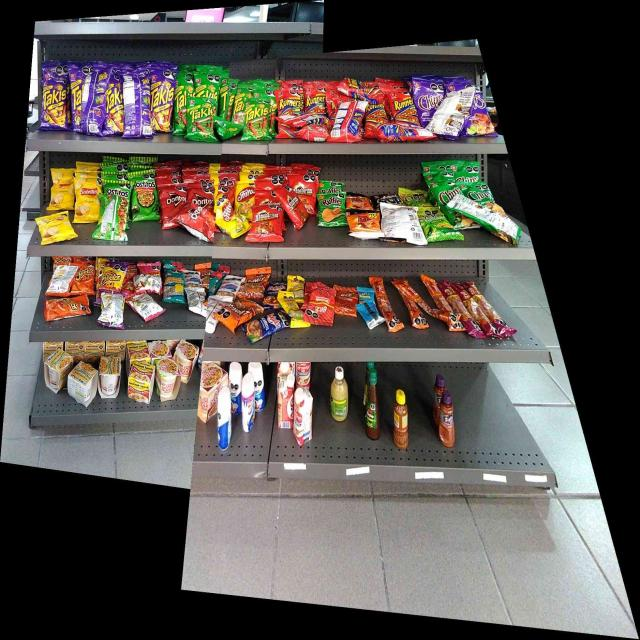bitzEnchilado90: (308, 288, 334, 327), (336, 286, 357, 315)
bitzEnchilado95: (428, 279, 453, 332), (401, 280, 422, 328), (380, 278, 396, 332)
bitzHabanero: (455, 282, 505, 338)
bokadosCacahuates: (257, 312, 284, 332), (267, 283, 282, 309)
botaneraChilito: (393, 389, 408, 450)
cheetosFlaminHot: (102, 262, 126, 288)
cheetosOriginal: (47, 298, 88, 317), (76, 262, 94, 294)
chipsFuego: (416, 79, 441, 119)
chipsPapatinas: (420, 206, 456, 240)
delPrimoSalsa: (329, 366, 349, 423)
doritosNacho: (182, 205, 214, 237), (159, 184, 181, 226)
fritosLimon: (217, 200, 235, 236), (237, 181, 250, 223)
hotNutsOriginal: (349, 210, 380, 238)
leoCacahuates: (222, 275, 237, 301), (186, 270, 202, 286)
leoMix: (224, 303, 253, 325), (243, 270, 266, 296)
maruchanPollo: (70, 364, 96, 404), (99, 356, 121, 400), (46, 352, 68, 389)
maruchanRes: (130, 363, 154, 402)
nestleCarnation: (293, 388, 313, 446), (278, 375, 292, 429)
nestleLechera: (216, 390, 232, 452), (242, 374, 256, 432)
nissinCamaron: (156, 359, 180, 403)
productoAtras: (474, 203, 520, 242), (125, 76, 151, 138), (382, 202, 417, 242), (84, 71, 105, 136), (442, 92, 470, 139), (100, 194, 127, 242), (334, 102, 362, 141), (100, 289, 124, 328), (386, 123, 430, 141), (130, 294, 157, 320), (52, 264, 73, 296), (187, 287, 206, 314), (134, 274, 162, 292), (360, 302, 379, 326), (282, 115, 327, 125), (209, 299, 220, 331)
rancheritos: (250, 205, 280, 241), (282, 187, 304, 229)
rufflesQueso: (317, 193, 346, 226)
runners: (390, 90, 416, 120), (344, 77, 378, 98), (305, 87, 328, 112), (278, 90, 301, 114), (367, 102, 385, 132)
sabritasOriginal: (74, 176, 99, 223), (49, 168, 72, 211), (40, 216, 72, 242)
salsaBufalo: (365, 368, 380, 440)
semillasCalabaza: (285, 293, 301, 327), (288, 275, 304, 292)
semillasGirasol: (165, 272, 185, 304)
tajinDulce: (440, 391, 457, 448)
takisFuego: (41, 75, 68, 132), (152, 71, 173, 132), (108, 78, 124, 136)
takisOriginal: (188, 97, 215, 142), (245, 99, 271, 139), (175, 73, 186, 134)
tostitos: (132, 174, 156, 220)
